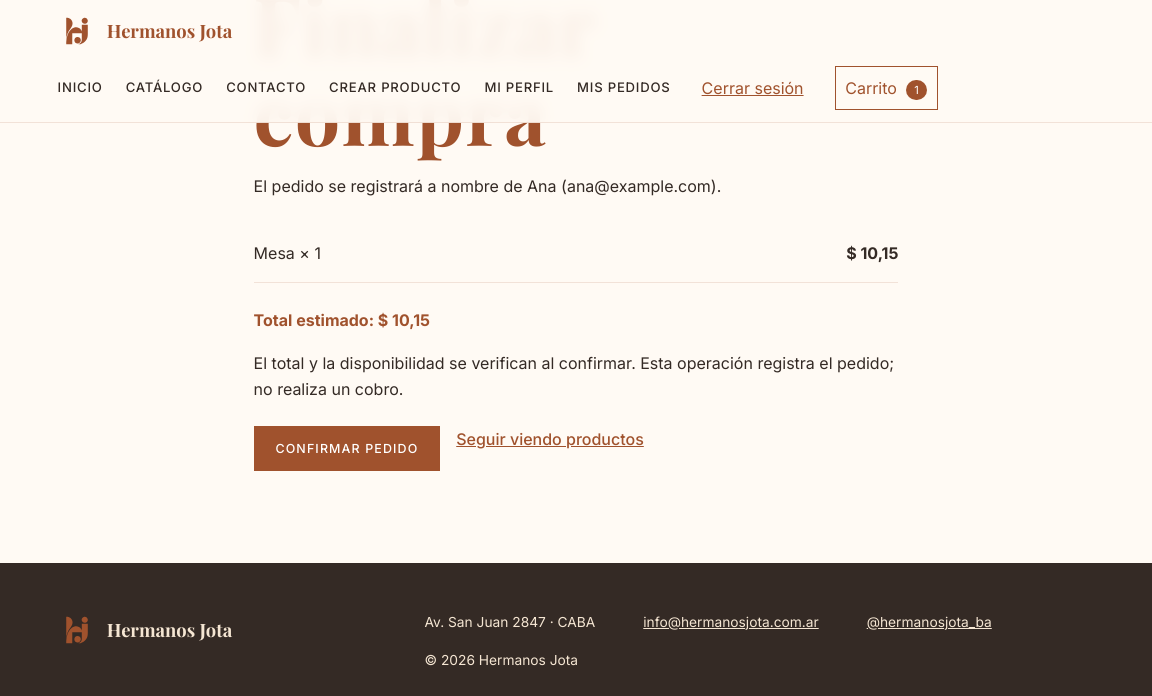
Test: conserva carrito ante error de stock
(page scrolled)
Click the button "Confirmar pedido": [347, 448] box x1=254 y1=426 x2=440 y2=471
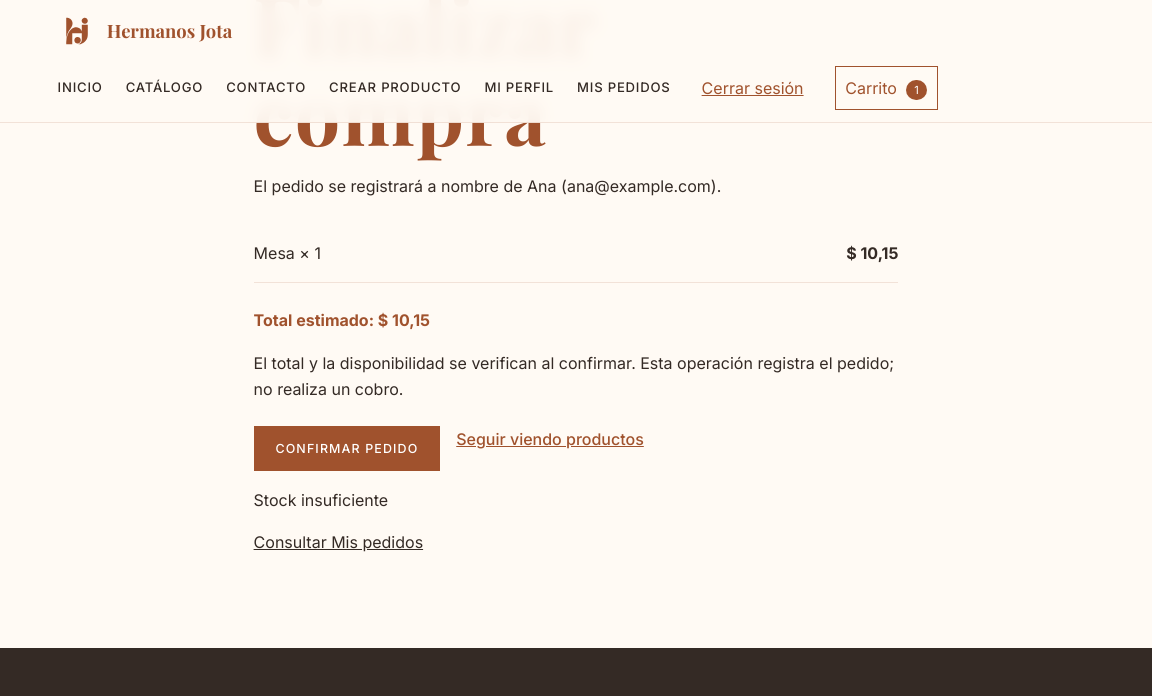
Result: the message "Stock insuficiente Consultar Mis pedidos" is shown at x1=254 y1=490 x2=423 y2=552
